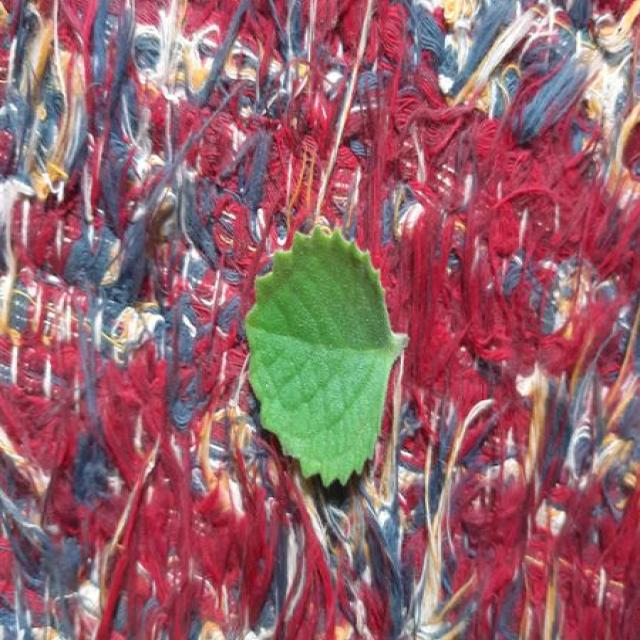doddpathre: (247, 228, 405, 484)
